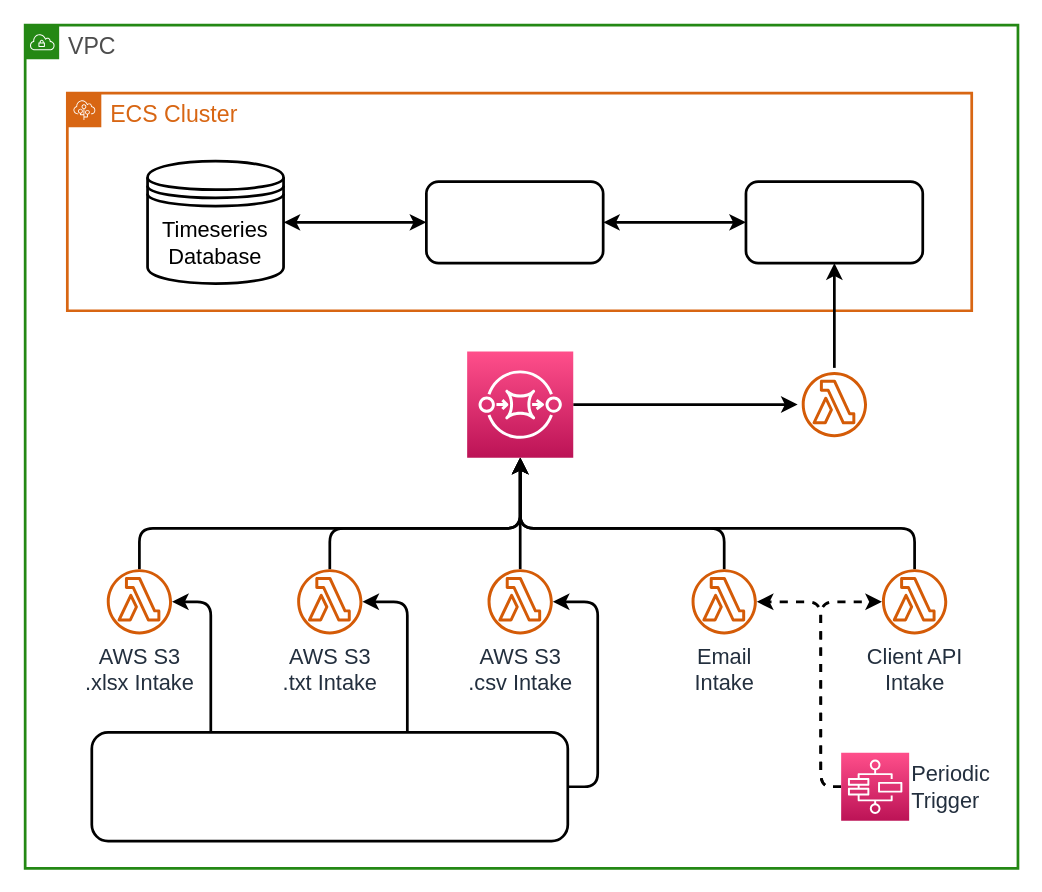
The diagram is 1042 pixels wide and 892 high, and some of its shapes have lost their labels. The centre of each missing label's shape, as x and y in pixels:
Backend API: point (514, 222)
Backend Load Balancer: point (833, 222)
Data Intake Main Function: point (833, 404)
Data Intake Queue: point (519, 404)
Legacy SFTP Server: point (329, 786)
